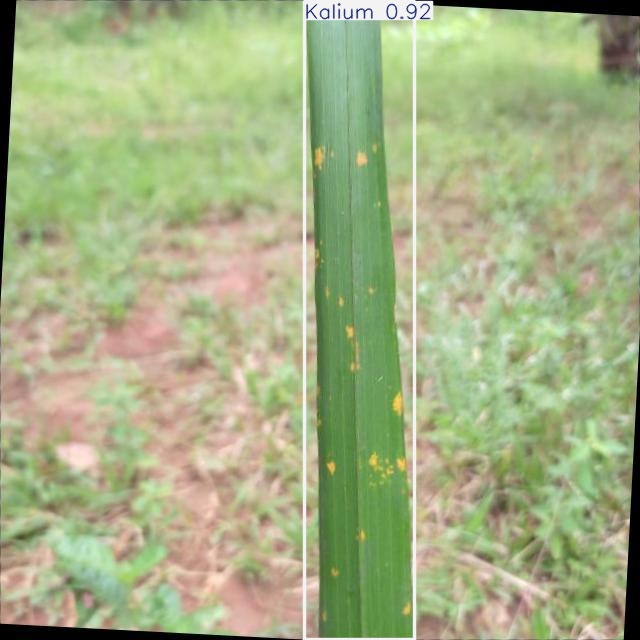Kalium: (304, 1, 414, 640)
